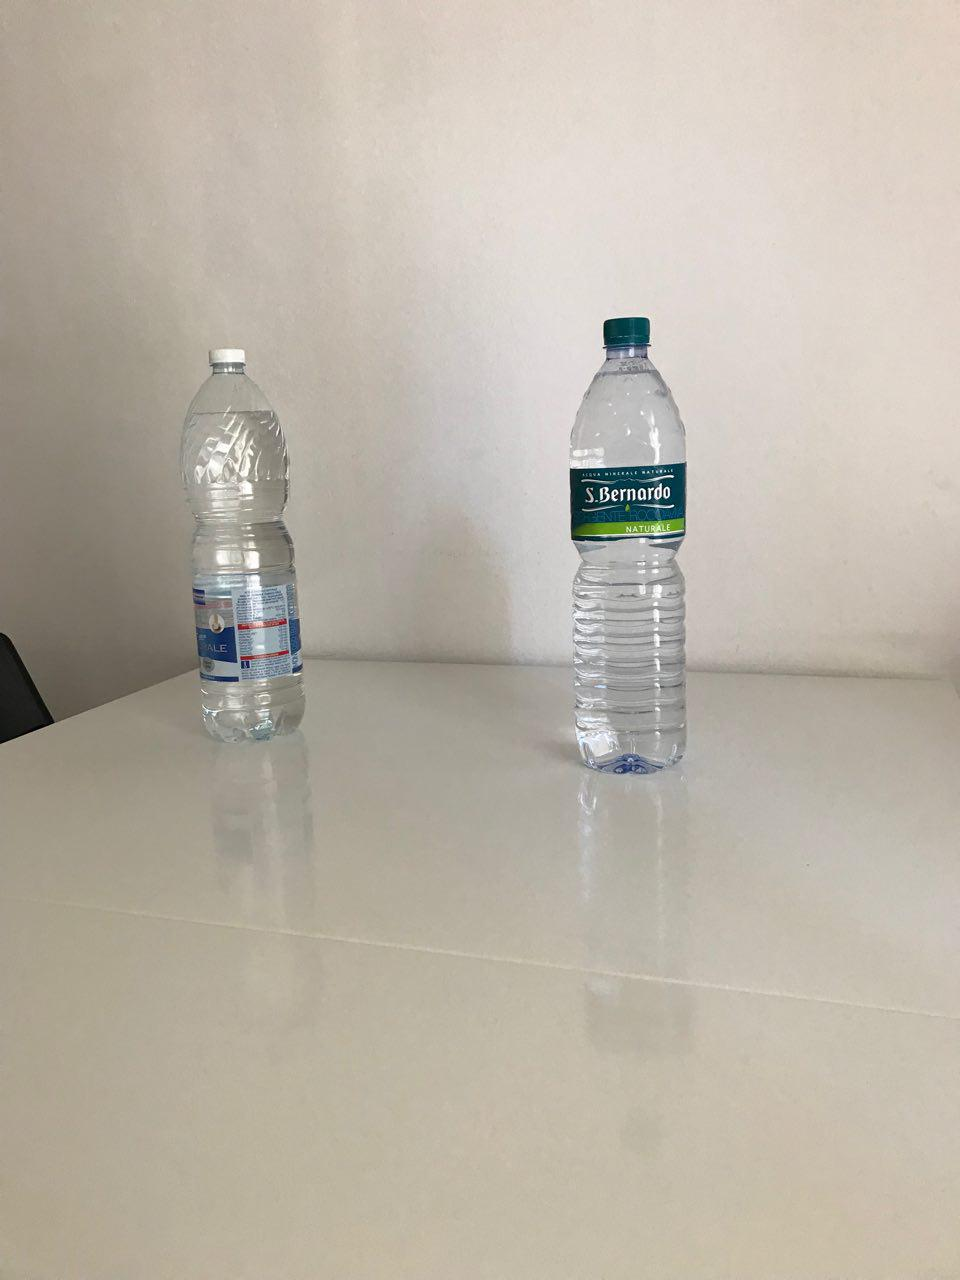san_bernardo: (568, 316, 687, 773)
